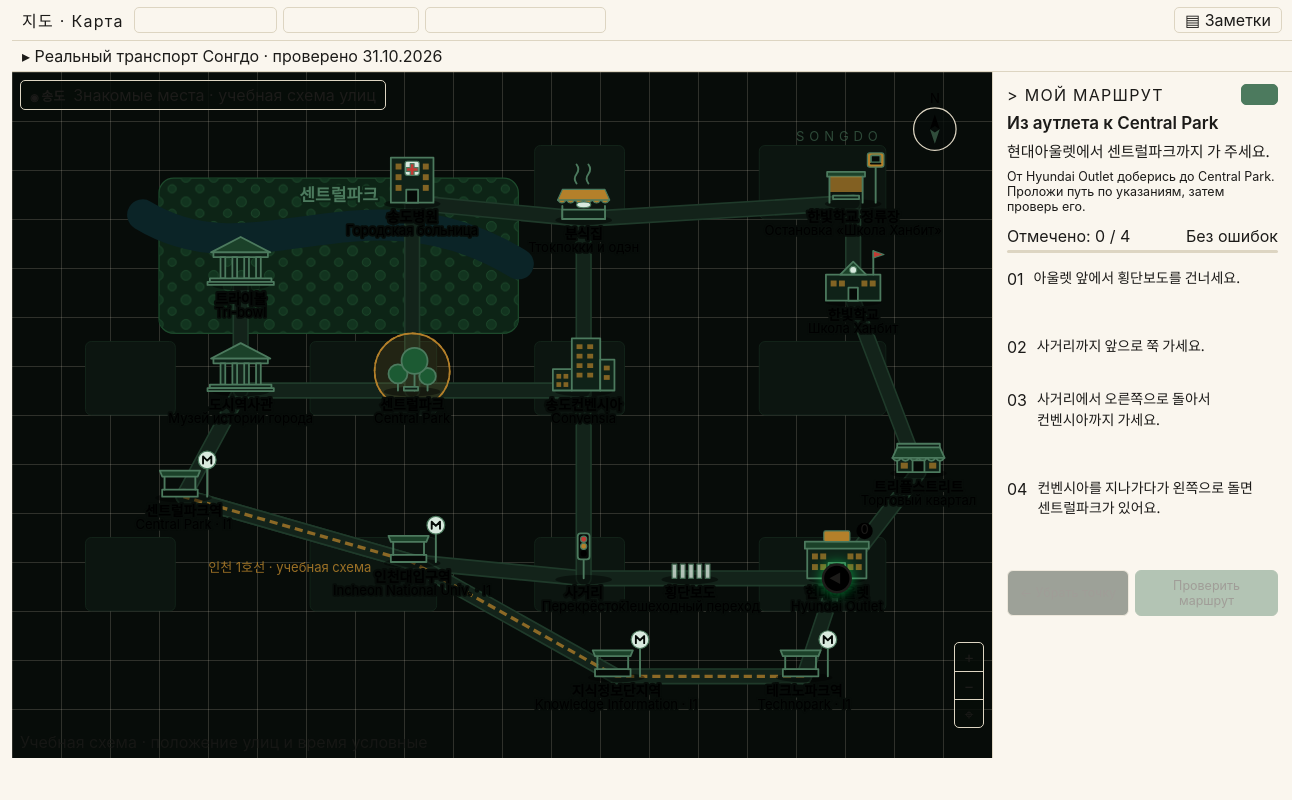
Переключение маршрутов › показывает выбранный новый маршрут до начала попытки
The image size is (1292, 800).
Select "Дорога к ветклинике" in the dropdown named "Маршрут задания" at (515, 20), box [425,7,606,33]
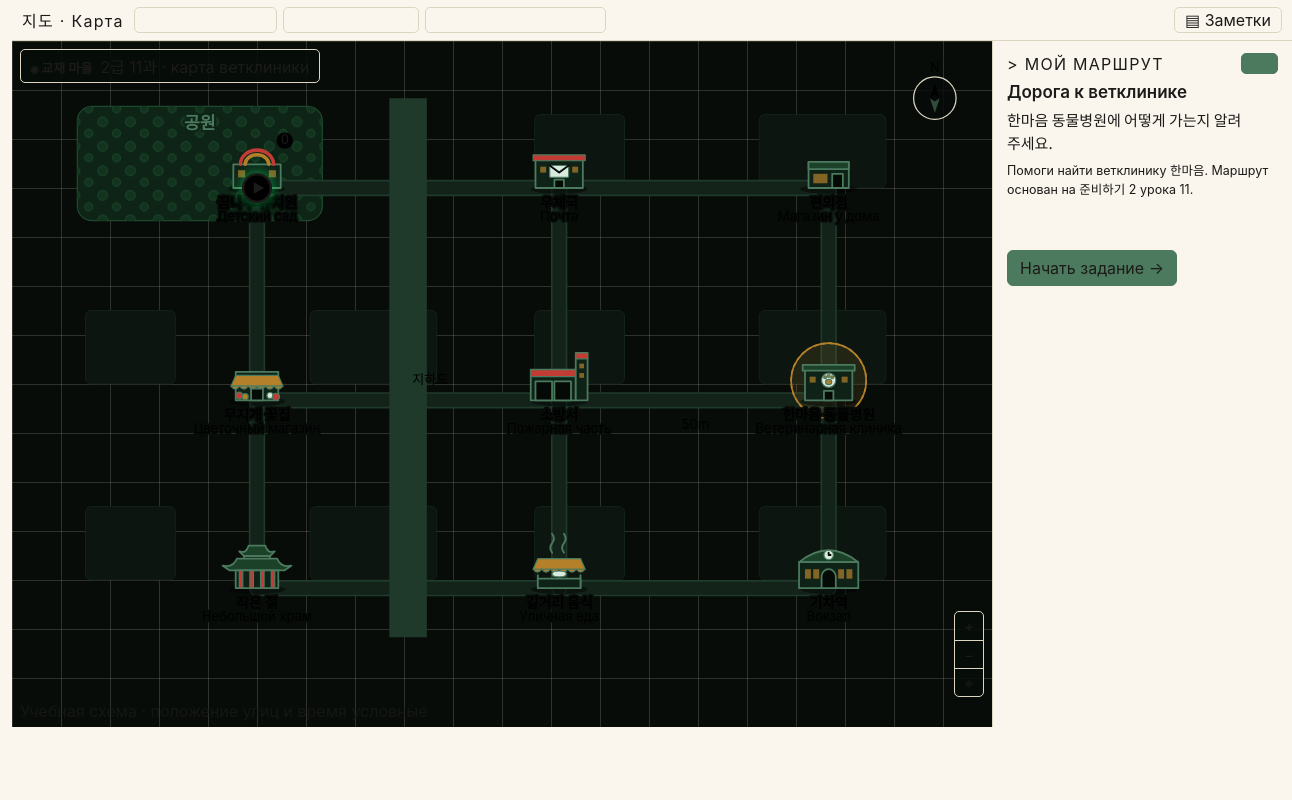
Expected: the heading "Дорога к ветклинике" is shown, [1007,82,1187,102]
Expected: the icon named "Карта: Район учебника" is shown
Expected: the button "Начать задание →" is shown, [1007,250,1177,286]
